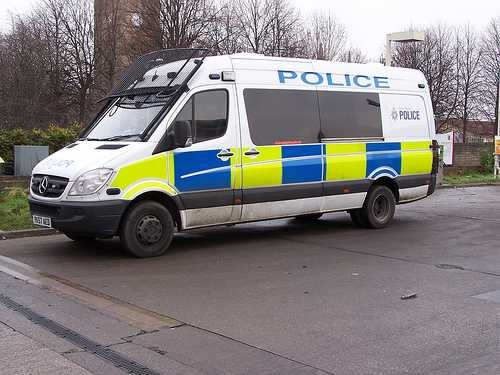Police Van: (21, 41, 451, 253)
